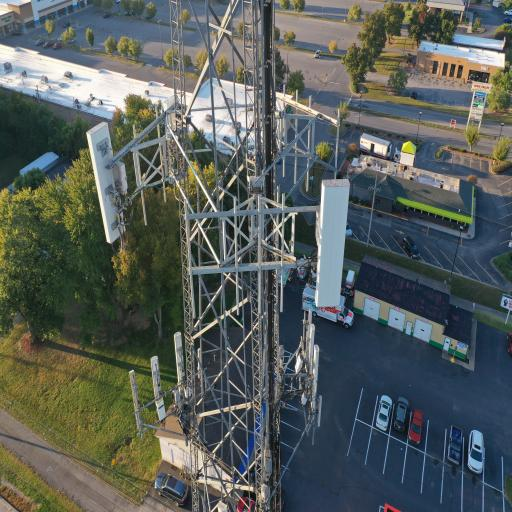supporting_tower: (84, 0, 376, 512)
